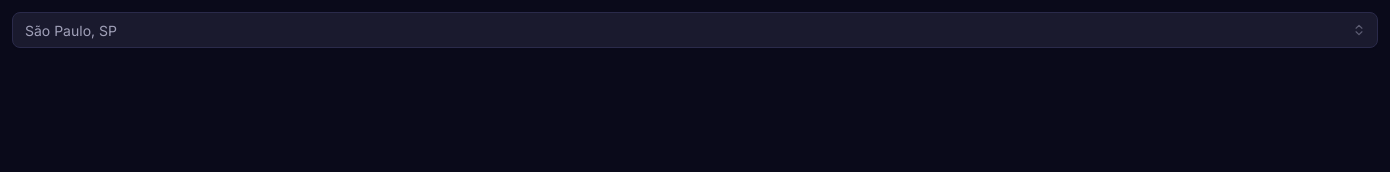
Test case: CityCombobox › validação — cidade inválida › adiciona borda vermelha quando inválido e tocado
In the field with placeholder "São Paulo, SP": x=695, y=30 [12,12,1378,48], type "Texto Invalido"
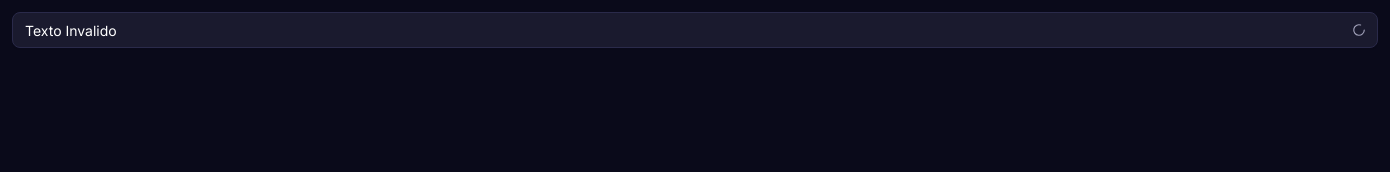
Leave the field with placeholder "São Paulo, SP", box [12,12,1378,48]
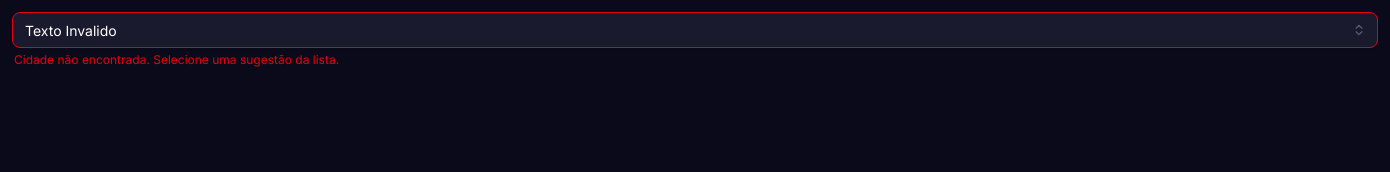
Now the field with placeholder "São Paulo, SP" has class "border-destructive", box [12,12,1378,48]
